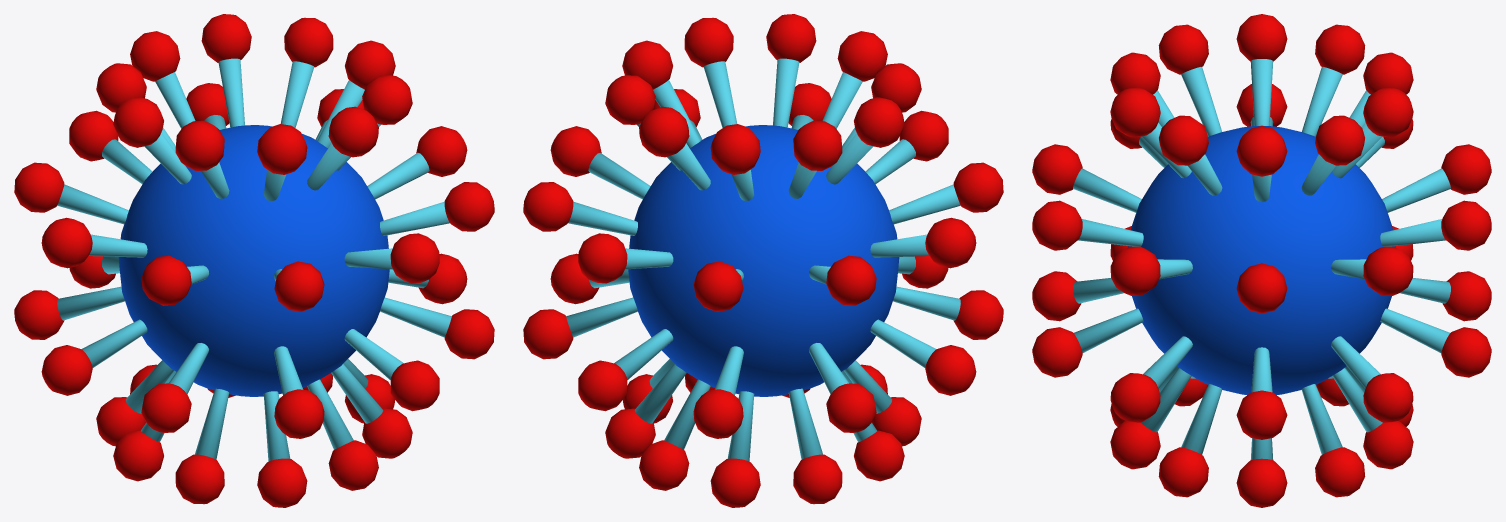
The model's file is MainVirus.fbx.
3 views of the same model, side by side, from view 1: azimuth 30°, elevation 25°; view 2: azimuth 150°, elevation 25°; view 3: azimuth 270°, elevation 25° (orthographic).
Visible parts, largest first — view 1: Virus, Prostrusions.037, Prostrusions.028, Prostrusions.002, Prostrusions.001, Prostrusions.018, Prostrusions.034, Prostrusions.015, Prostrusions.017, Prostrusions.016, Prostrusions.044, Prostrusions.019 (+29 smaller); view 2: Virus, Prostrusions.001, Prostrusions.018, Prostrusions.002, Prostrusions.037, Prostrusions.028, Prostrusions.022, Prostrusions.015, Prostrusions.017, Prostrusions.038, Prostrusions.006, Prostrusions.019 (+29 smaller); view 3: Virus, Prostrusions.018, Prostrusions.028, Prostrusions.001, Prostrusions.037, Prostrusions.002, Prostrusions.008, Prostrusions.020, Prostrusions.036, Prostrusions.043, Prostrusions.006, Prostrusions.044 (+26 smaller).
Boxes of the visible parts, x1,y1,x2,y2 form: Virus: [118, 125, 389, 396]; Prostrusions.037: [57, 123, 451, 423]; Prostrusions.028: [102, 72, 403, 449]; Prostrusions.002: [81, 80, 429, 442]; Prostrusions.001: [169, 61, 327, 459]; Prostrusions.018: [204, 58, 303, 461]; Prostrusions.034: [390, 360, 439, 411]; Prostrusions.015: [41, 345, 92, 395]; Prostrusions.017: [41, 217, 92, 268]; Prostrusions.016: [175, 120, 224, 170]; Prostrusions.044: [444, 182, 494, 231]; Prostrusions.019: [113, 97, 163, 147]; Virus: [628, 125, 899, 396]; Prostrusions.001: [566, 123, 960, 423]; Prostrusions.018: [614, 72, 915, 449]; Prostrusions.002: [588, 80, 936, 442]; Prostrusions.037: [690, 61, 848, 459]; Prostrusions.028: [714, 58, 813, 461]; Prostrusions.022: [578, 360, 627, 411]; Prostrusions.015: [925, 345, 976, 395]; Prostrusions.017: [925, 217, 976, 268]; Prostrusions.038: [793, 120, 842, 170]; Prostrusions.006: [523, 182, 573, 231]; Prostrusions.019: [854, 97, 904, 147]; Virus: [1128, 125, 1395, 394]; Prostrusions.018: [1073, 90, 1449, 432]; Prostrusions.028: [1074, 90, 1450, 432]; Prostrusions.001: [1139, 67, 1380, 454]; Prostrusions.037: [1143, 67, 1384, 454]; Prostrusions.002: [1250, 59, 1273, 459]; Prostrusions.008: [1363, 373, 1413, 422]; Prostrusions.020: [1363, 87, 1413, 137]; Prostrusions.036: [1110, 87, 1160, 137]; Prostrusions.043: [1110, 373, 1160, 422]; Prostrusions.006: [1363, 246, 1413, 295]; Prostrusions.044: [1110, 246, 1160, 295].
Size of the model in its own units: 355 by 308 by 340.
